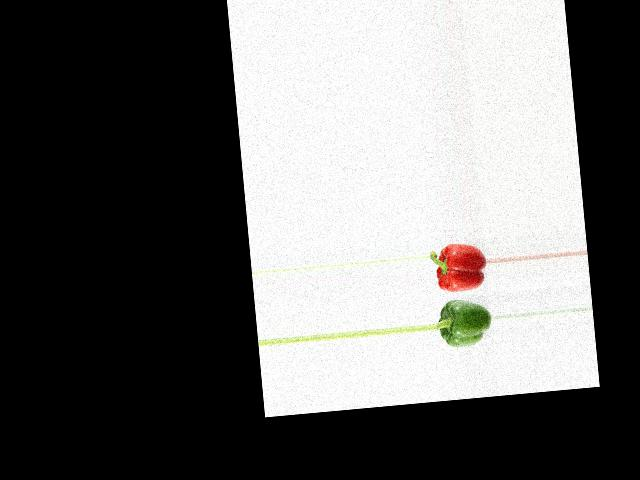bell_pepper: (435, 295, 491, 350)
